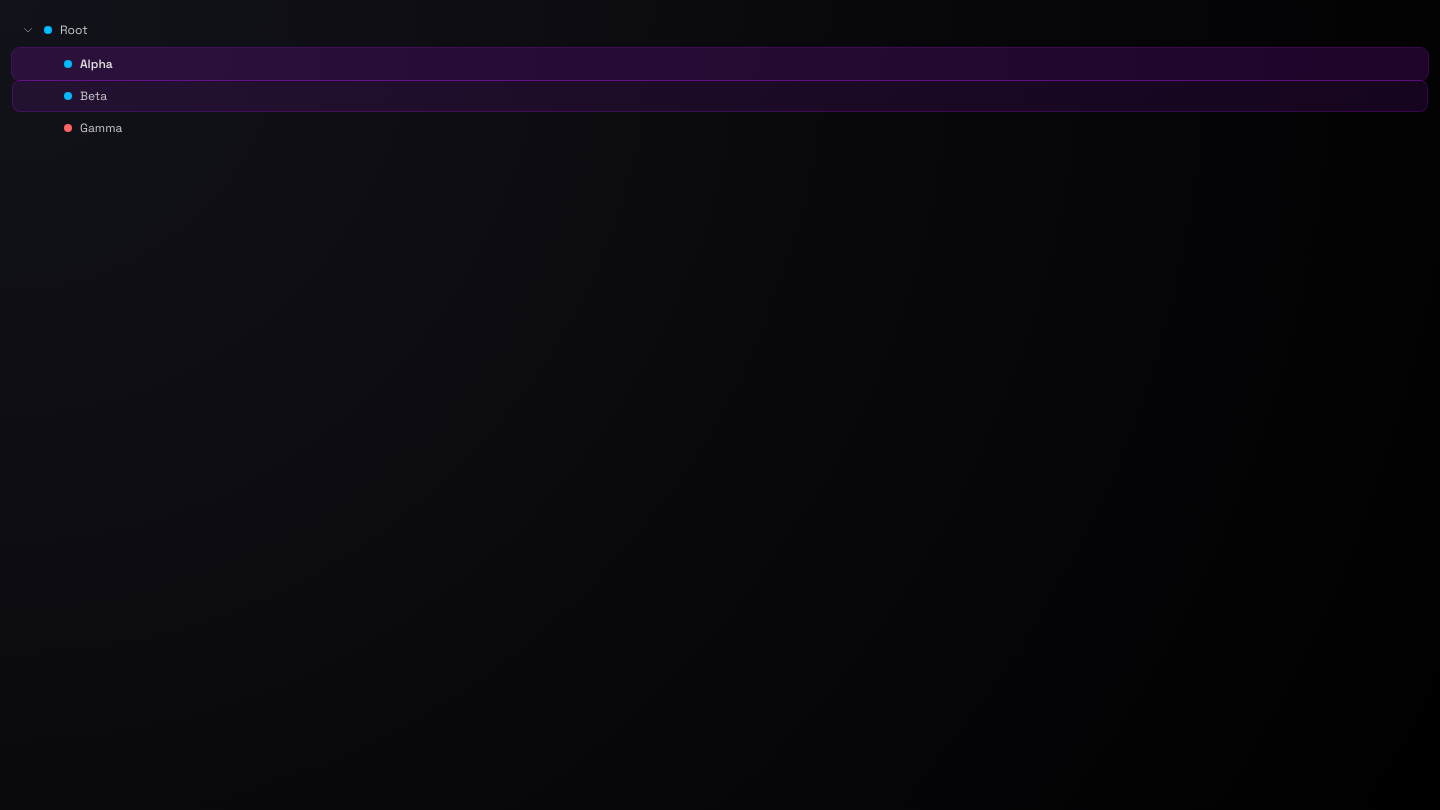
Test: GoalTree multi-selection › right-click on a selected goal opens the bulk menu titled with the count
Right-click the button with test id "goal-node-b": (68, 96) 12,80 -> 1428,112
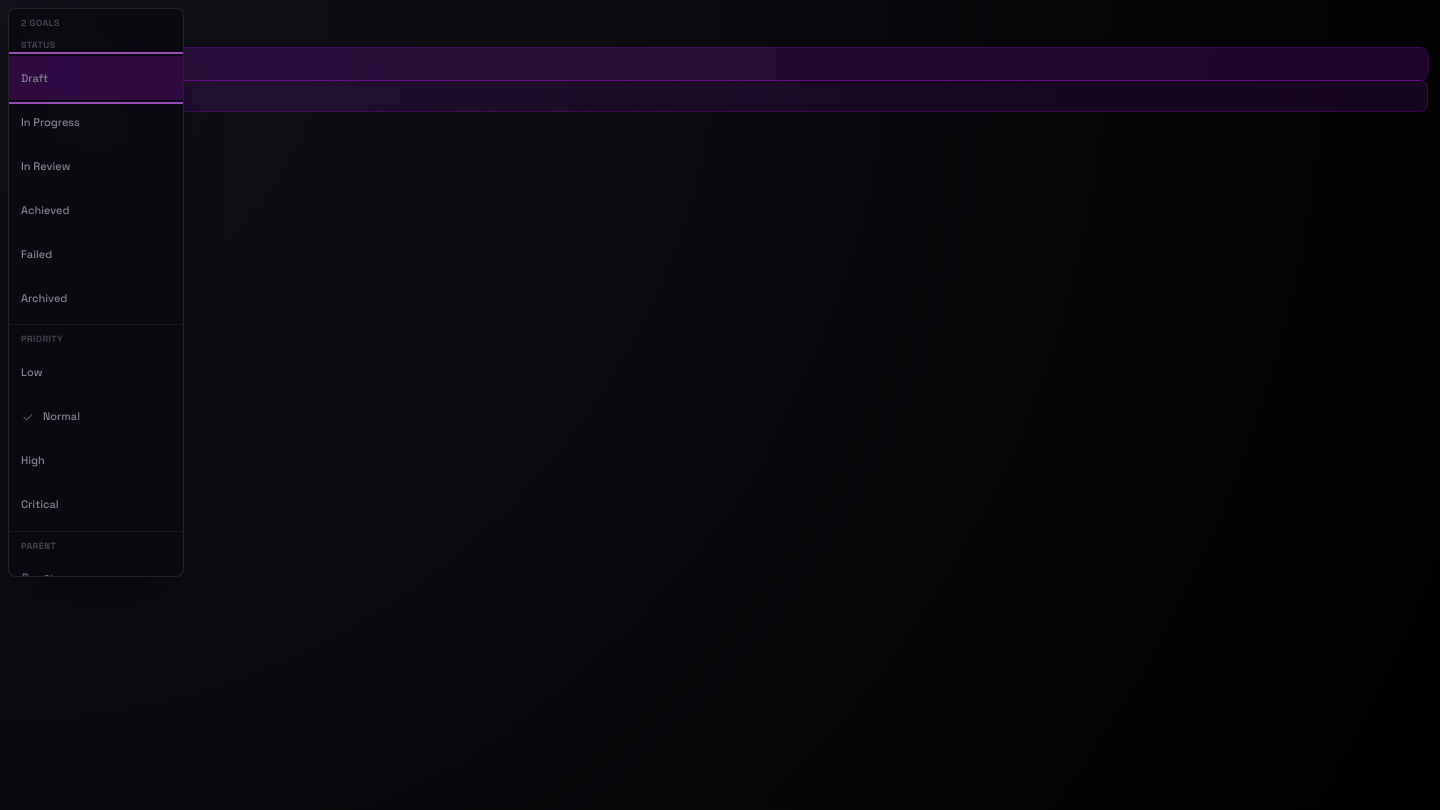
expect the text "2 goals" is shown: met, box 21,17 -> 60,29
expect the menu item "Achieved" is shown: met, box 9,188 -> 183,232
